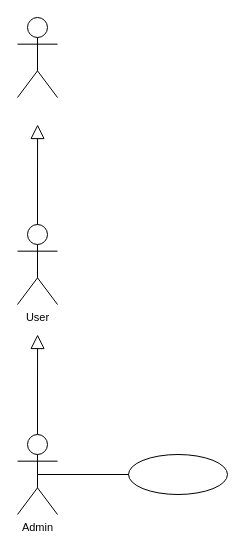
Image size: 245x552. Some labels were removed from this diagram. Here are the shapes that lost their labels. From the top down, the centre of each, then its label:
At (x=37, y=57): "Lurker".
At (x=178, y=474): "Crea utente".
